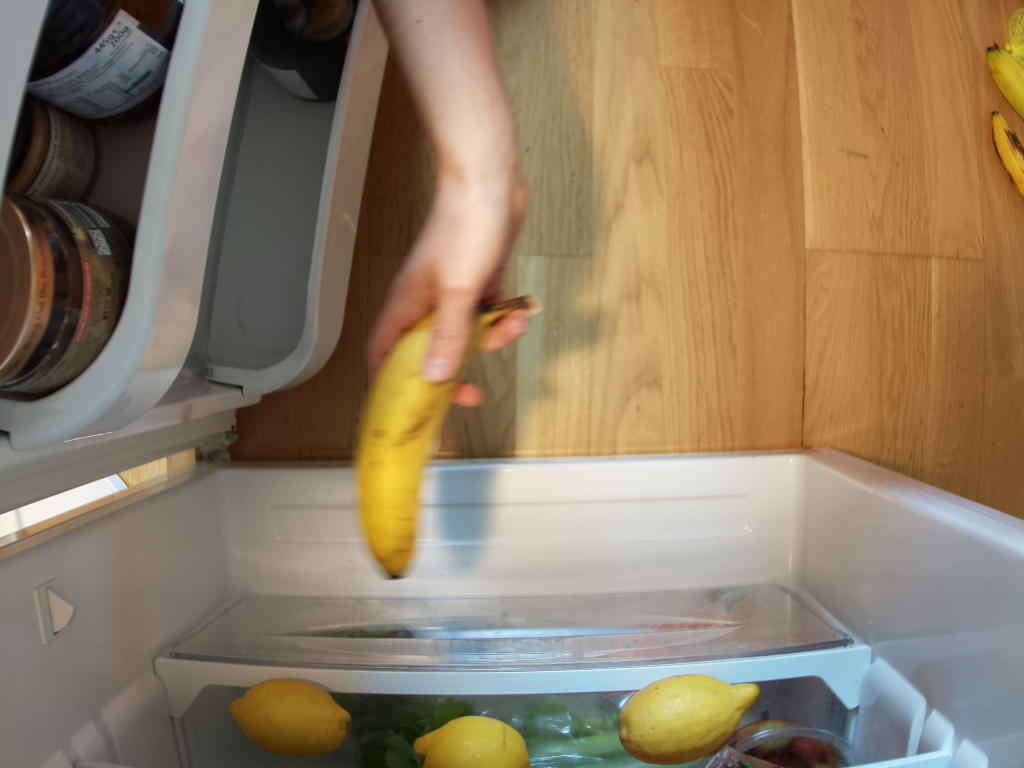banana: (354, 280, 533, 582)
